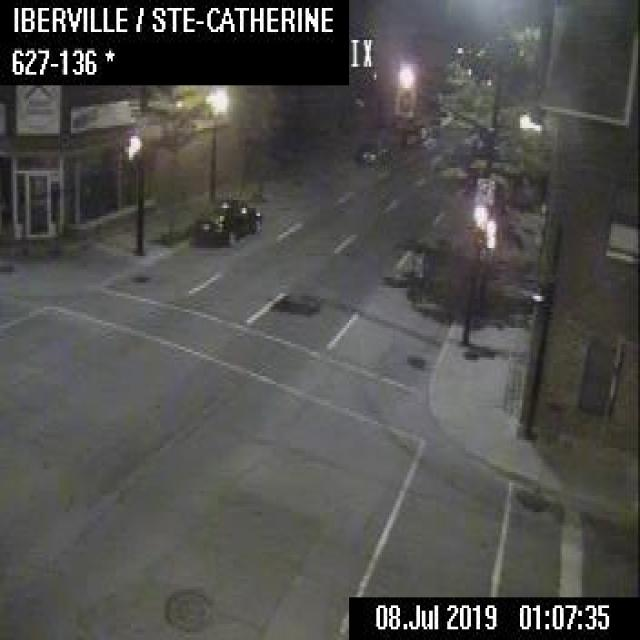vehicle: (193, 196, 260, 244), (352, 136, 392, 165)
